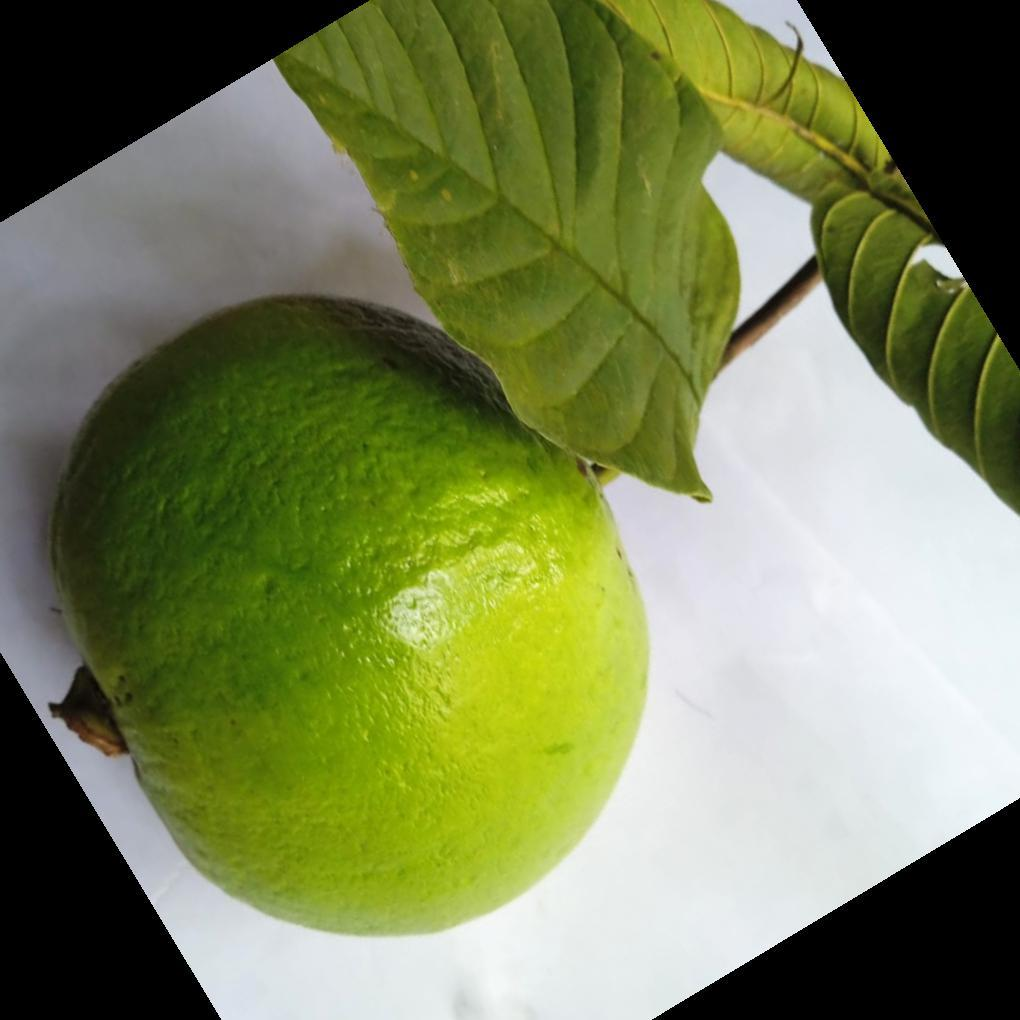FreshGuava: (46, 296, 652, 943)
